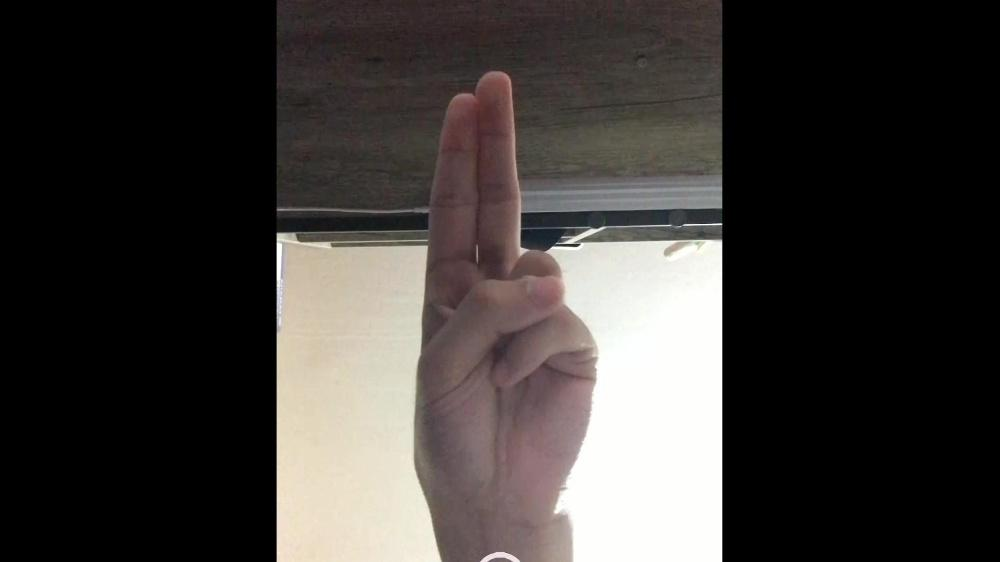u: (412, 70, 601, 522)
